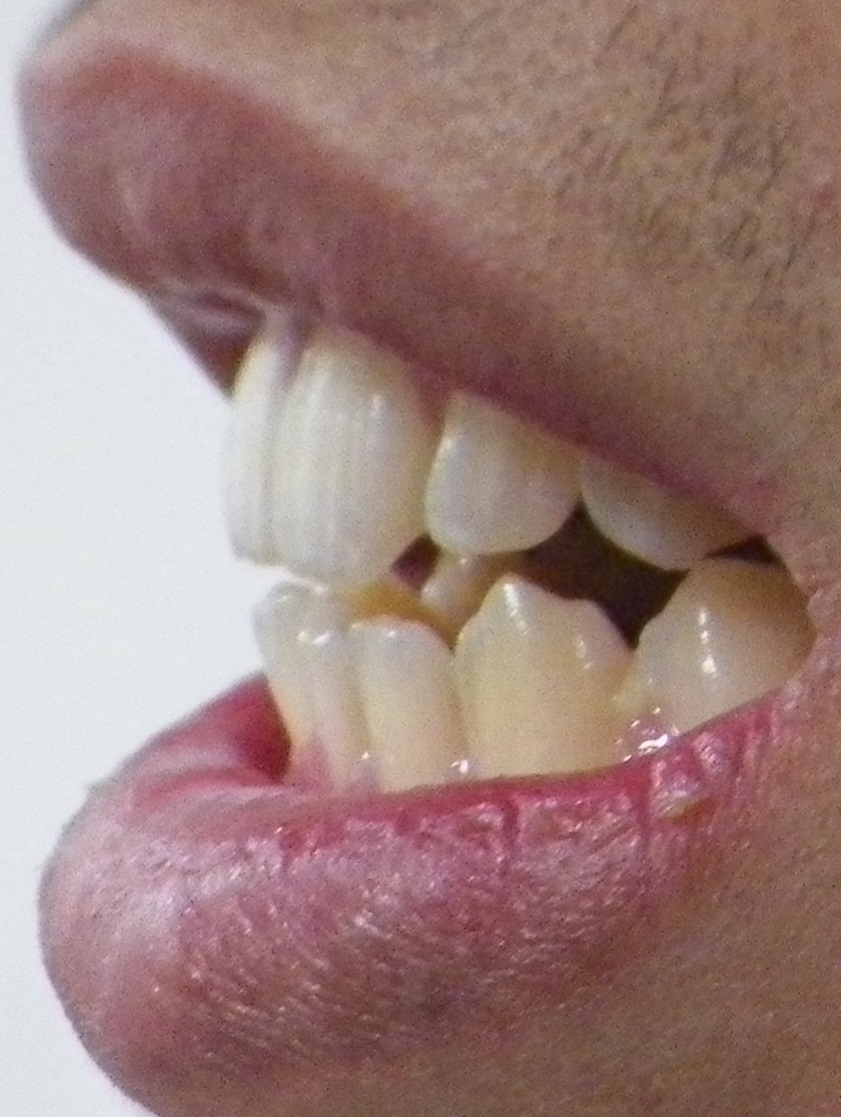boca: (213, 328, 762, 797)
